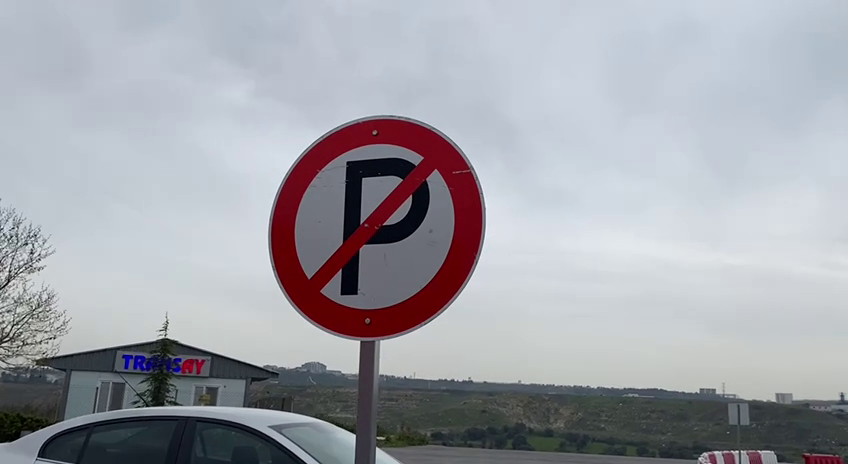noparking: (263, 111, 488, 343)
